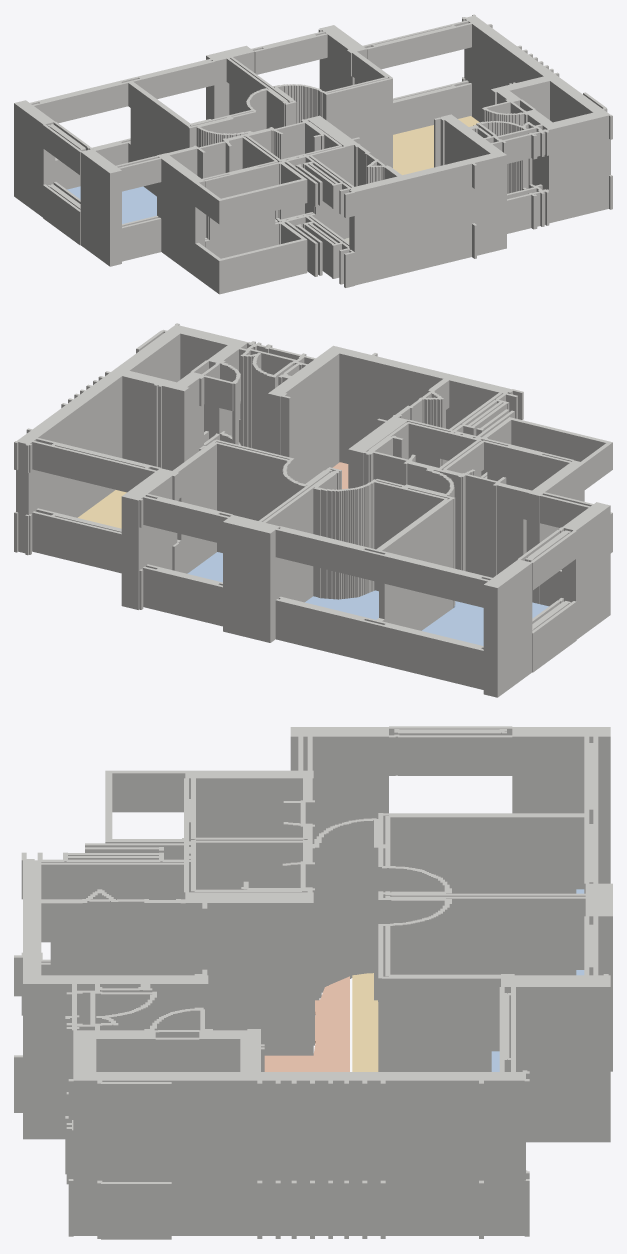
3 views of the same model, one above another, from view 1: azimuth 30°, elevation 25°; view 2: azimuth 150°, elevation 25°; view 3: azimuth 270°, elevation 25° (orthographic). The views are drawn at different scales.
Parts seen in each view (by area): view 1: walls, room:living:0, room:bedroom:9; view 2: walls, room:bedroom:9, room:bedroom:8, room:living:0, room:bedroom:1; view 3: walls, room:kitchen:6, room:living:0.
Part boxes in pixels (left/top/right/bottom): walls: left=14, top=14, right=612, bottom=294; room:living:0: left=393, top=116, right=479, bottom=175; room:bedroom:9: left=67, top=186, right=156, bottom=223; walls: left=14, top=323, right=612, bottom=697; room:bedroom:9: left=422, top=601, right=548, bottom=645; room:bedroom:8: left=305, top=590, right=378, bottom=619; room:living:0: left=78, top=490, right=126, bottom=528; room:bedroom:1: left=187, top=552, right=222, bottom=582; walls: left=14, top=726, right=612, bottom=1239; room:kitchen:6: left=264, top=976, right=349, bottom=1071; room:living:0: left=352, top=973, right=378, bottom=1071.
Bounding box in the file's own units: 13.82 × 2.8 × 9.78.
